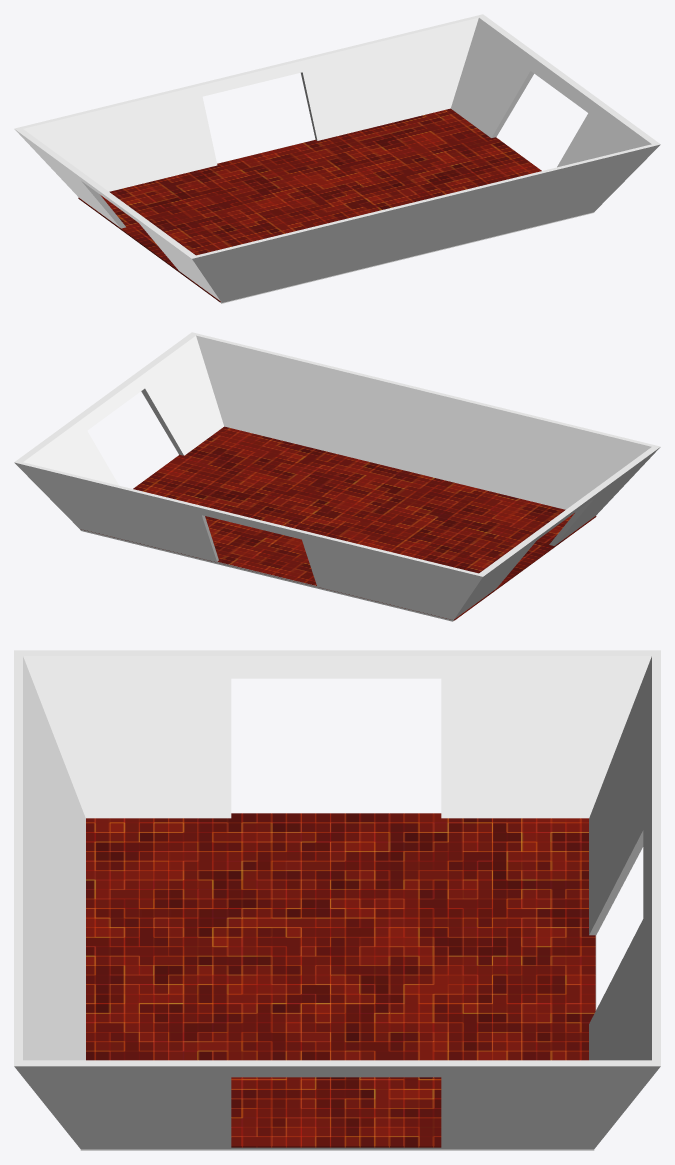
Rendered from Room5.obj.
The picture shows the model from 3 angles, top to bottom: view 1: azimuth 30°, elevation 25°; view 2: azimuth 150°, elevation 25°; view 3: azimuth 270°, elevation 25°; orthographic projection. The views are drawn at different scales.
Parts seen in each view (by area): view 1: Room5, Piso1; view 2: Room5, Piso1; view 3: Room5, Piso1.
Part boxes in pixels (x1,y1,x2,y2): Room5: (14, 14, 660, 303); Piso1: (78, 108, 541, 302); Room5: (14, 332, 660, 621); Piso1: (80, 426, 596, 620); Room5: (14, 650, 660, 1150); Piso1: (86, 813, 595, 1147).
Size of the model in its own units: 35 by 5 by 23.
